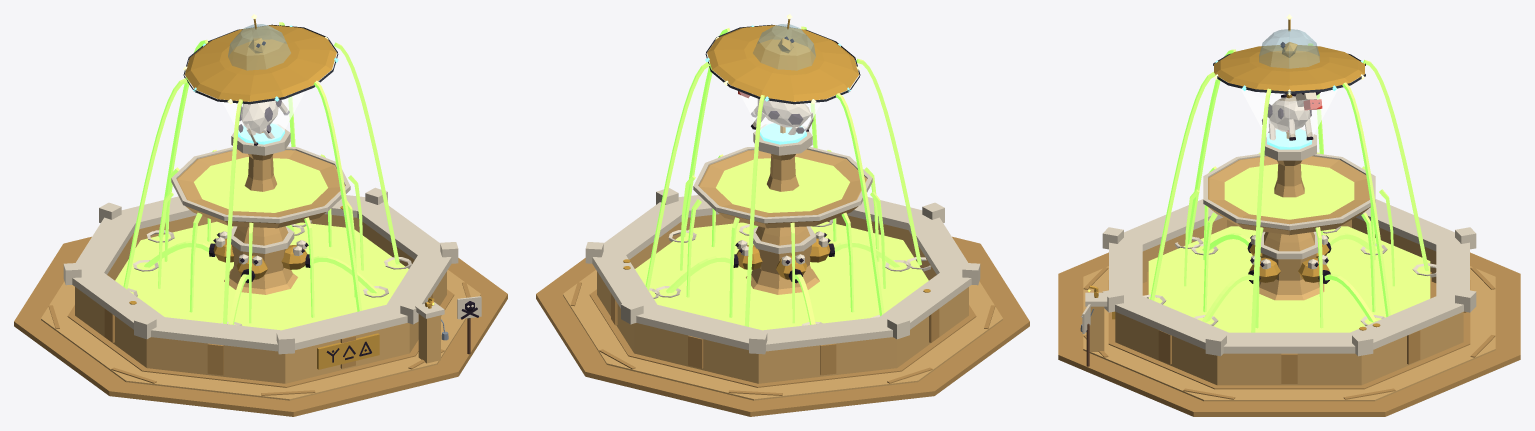
Rendered from Bldg_Fountain.fbx.
3 views of the same model, side by side, from view 1: azimuth 30°, elevation 25°; view 2: azimuth 150°, elevation 25°; view 3: azimuth 270°, elevation 25° (orthographic).
Visible parts, largest first — view 1: Bldg_Fountain_Body, Bldg_Fountain_Liquid, Bldg_Fountain_Streams, Bldg_Fountain_Saucer, Bldg_Fountain_Cow; view 2: Bldg_Fountain_Body, Bldg_Fountain_Liquid, Bldg_Fountain_Streams, Bldg_Fountain_Saucer, Bldg_Fountain_Cow; view 3: Bldg_Fountain_Body, Bldg_Fountain_Liquid, Bldg_Fountain_Streams, Bldg_Fountain_Saucer, Bldg_Fountain_Cow.
Part boxes in pixels (x1,y1,x2,y2): Bldg_Fountain_Body: (14, 91, 507, 416); Bldg_Fountain_Liquid: (115, 157, 411, 330); Bldg_Fountain_Streams: (123, 22, 399, 324); Bldg_Fountain_Saucer: (183, 14, 338, 104); Bldg_Fountain_Cow: (238, 100, 289, 145); Bldg_Fountain_Body: (536, 91, 1029, 416); Bldg_Fountain_Liquid: (635, 157, 931, 330); Bldg_Fountain_Streams: (645, 26, 921, 326); Bldg_Fountain_Saucer: (705, 14, 860, 104); Bldg_Fountain_Cow: (738, 91, 813, 134); Bldg_Fountain_Body: (1058, 88, 1520, 416); Bldg_Fountain_Liquid: (1143, 164, 1436, 332); Bldg_Fountain_Streams: (1150, 43, 1428, 332); Bldg_Fountain_Saucer: (1213, 14, 1365, 95); Bldg_Fountain_Cow: (1262, 92, 1322, 140).
Size of the model in its own units: 8.5 by 6.12 by 8.5.
